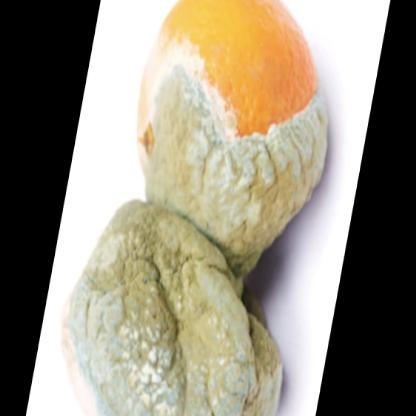rotten: (66, 3, 328, 416)
